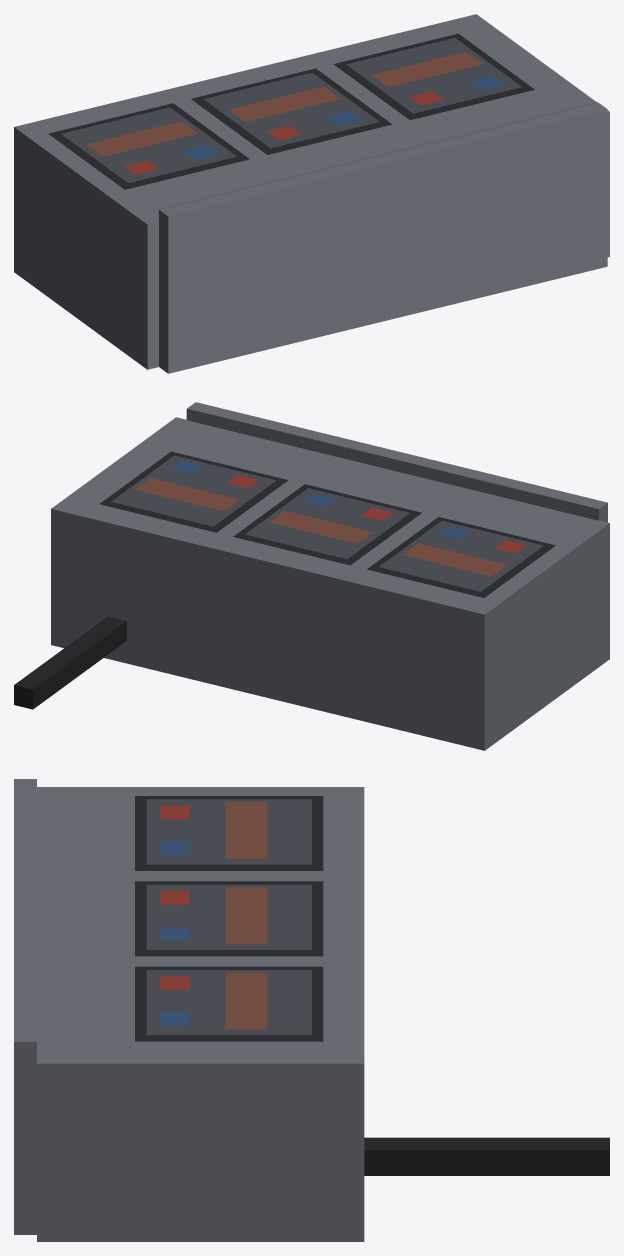
The model's file is bank_wall_standard_c3_S.obj.
3 renders of one model, top to bottom at view 1: azimuth 30°, elevation 25°; view 2: azimuth 150°, elevation 25°; view 3: azimuth 270°, elevation 25°, orthographic. The views are drawn at different scales.
Visible parts, largest first — view 1: bank_wall_standard_c3_S; view 2: bank_wall_standard_c3_S; view 3: bank_wall_standard_c3_S.
Part boxes in pixels (x1,y1,x2,y2): bank_wall_standard_c3_S: (14,14,609,373); bank_wall_standard_c3_S: (14,402,609,750); bank_wall_standard_c3_S: (14,779,609,1241).
Bounding box in the file's own units: 0.8 × 0.2635 × 0.728.
Materials: 1 (1 with a texture image).
